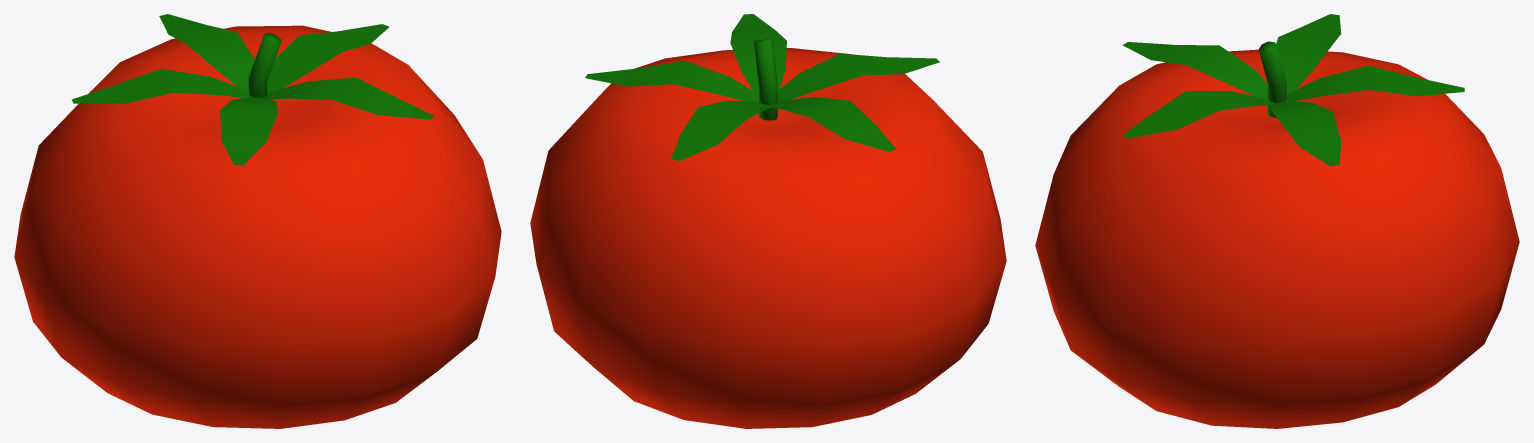
File: tomato 1.fbx
The picture shows the model from 3 angles, left to right: view 1: azimuth 30°, elevation 25°; view 2: azimuth 150°, elevation 25°; view 3: azimuth 270°, elevation 25°; orthographic projection. The views are drawn at different scales.
Visible parts, largest first — view 1: Sphere; view 2: Sphere; view 3: Sphere.
Part boxes in pixels (x1,y1,x2,y2): Sphere: (14,14,501,428); Sphere: (530,14,1006,428); Sphere: (1035,14,1519,428).
Bounding box in the file's own units: 507 × 394 × 507.
